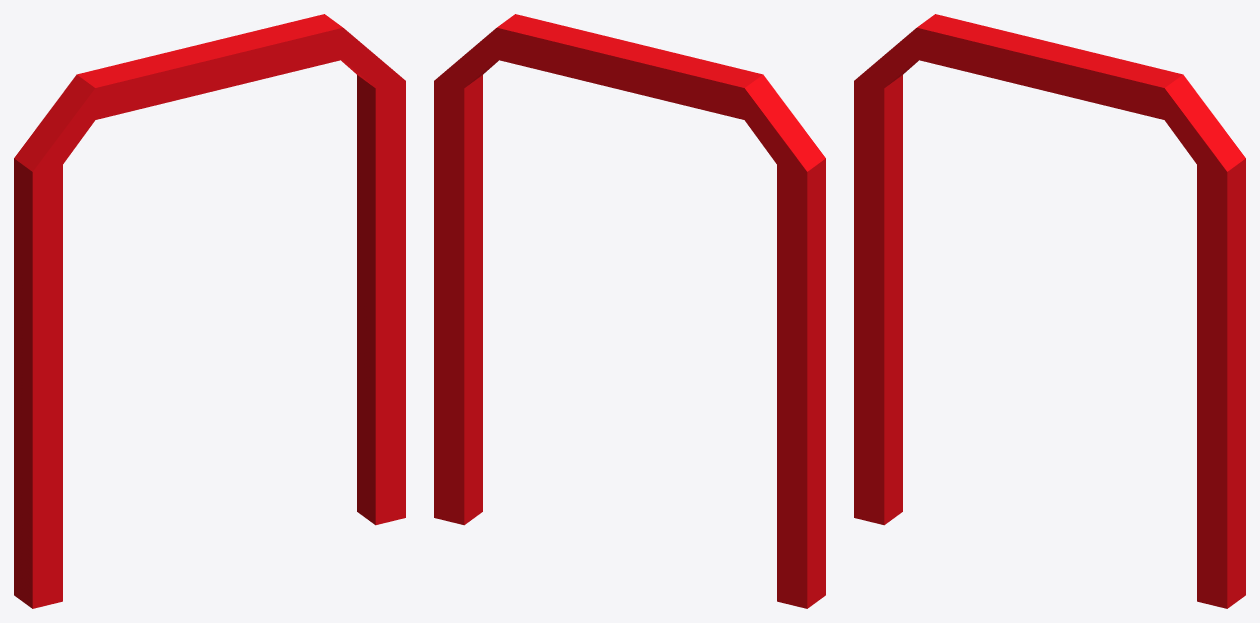
The model's file is MarcoP.FBX.
The picture shows the model from 3 angles, left to right: view 1: azimuth 30°, elevation 25°; view 2: azimuth 150°, elevation 25°; view 3: azimuth 330°, elevation 25°; orthographic projection.
Parts seen in each view (by area): view 1: G_MarcoP; view 2: G_MarcoP; view 3: G_MarcoP.
Part boxes in pixels (box(x1,y1,x2,y2)): G_MarcoP: box(14, 14, 405, 608); G_MarcoP: box(434, 14, 825, 608); G_MarcoP: box(854, 14, 1245, 608).
Size of the model in its own units: 14.65 by 18.96 by 1.27.
